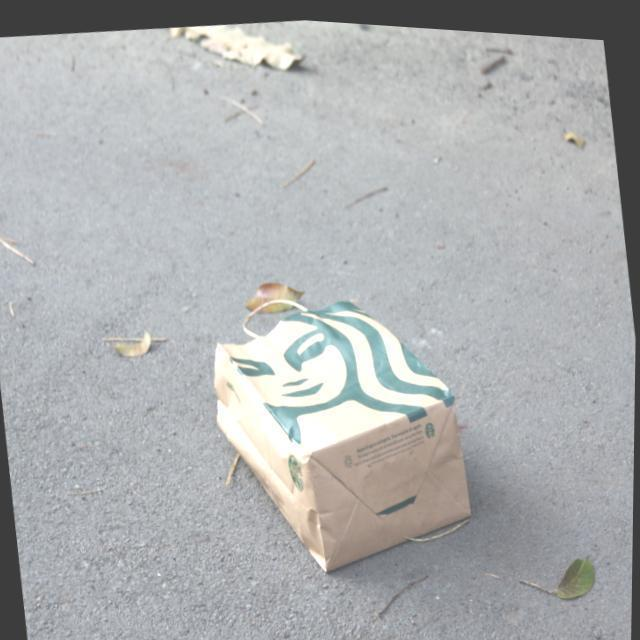Paper_Bag: (200, 269, 482, 588)
